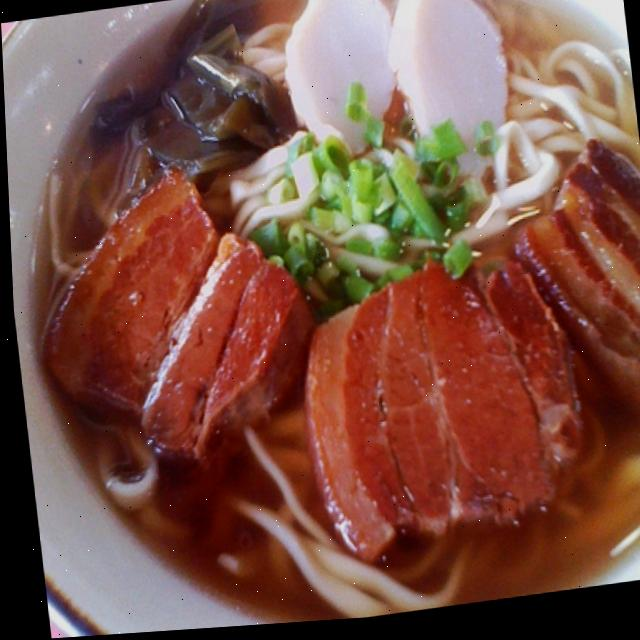面包点心: (138, 38, 546, 522)
